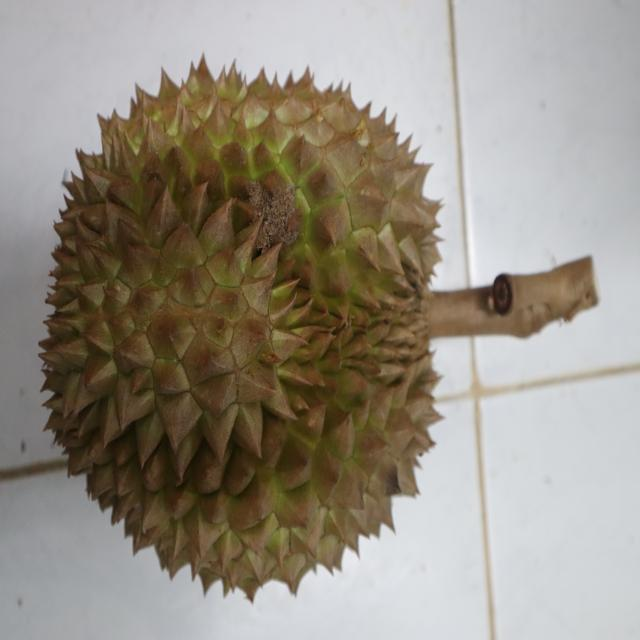mature: (39, 53, 446, 598)
